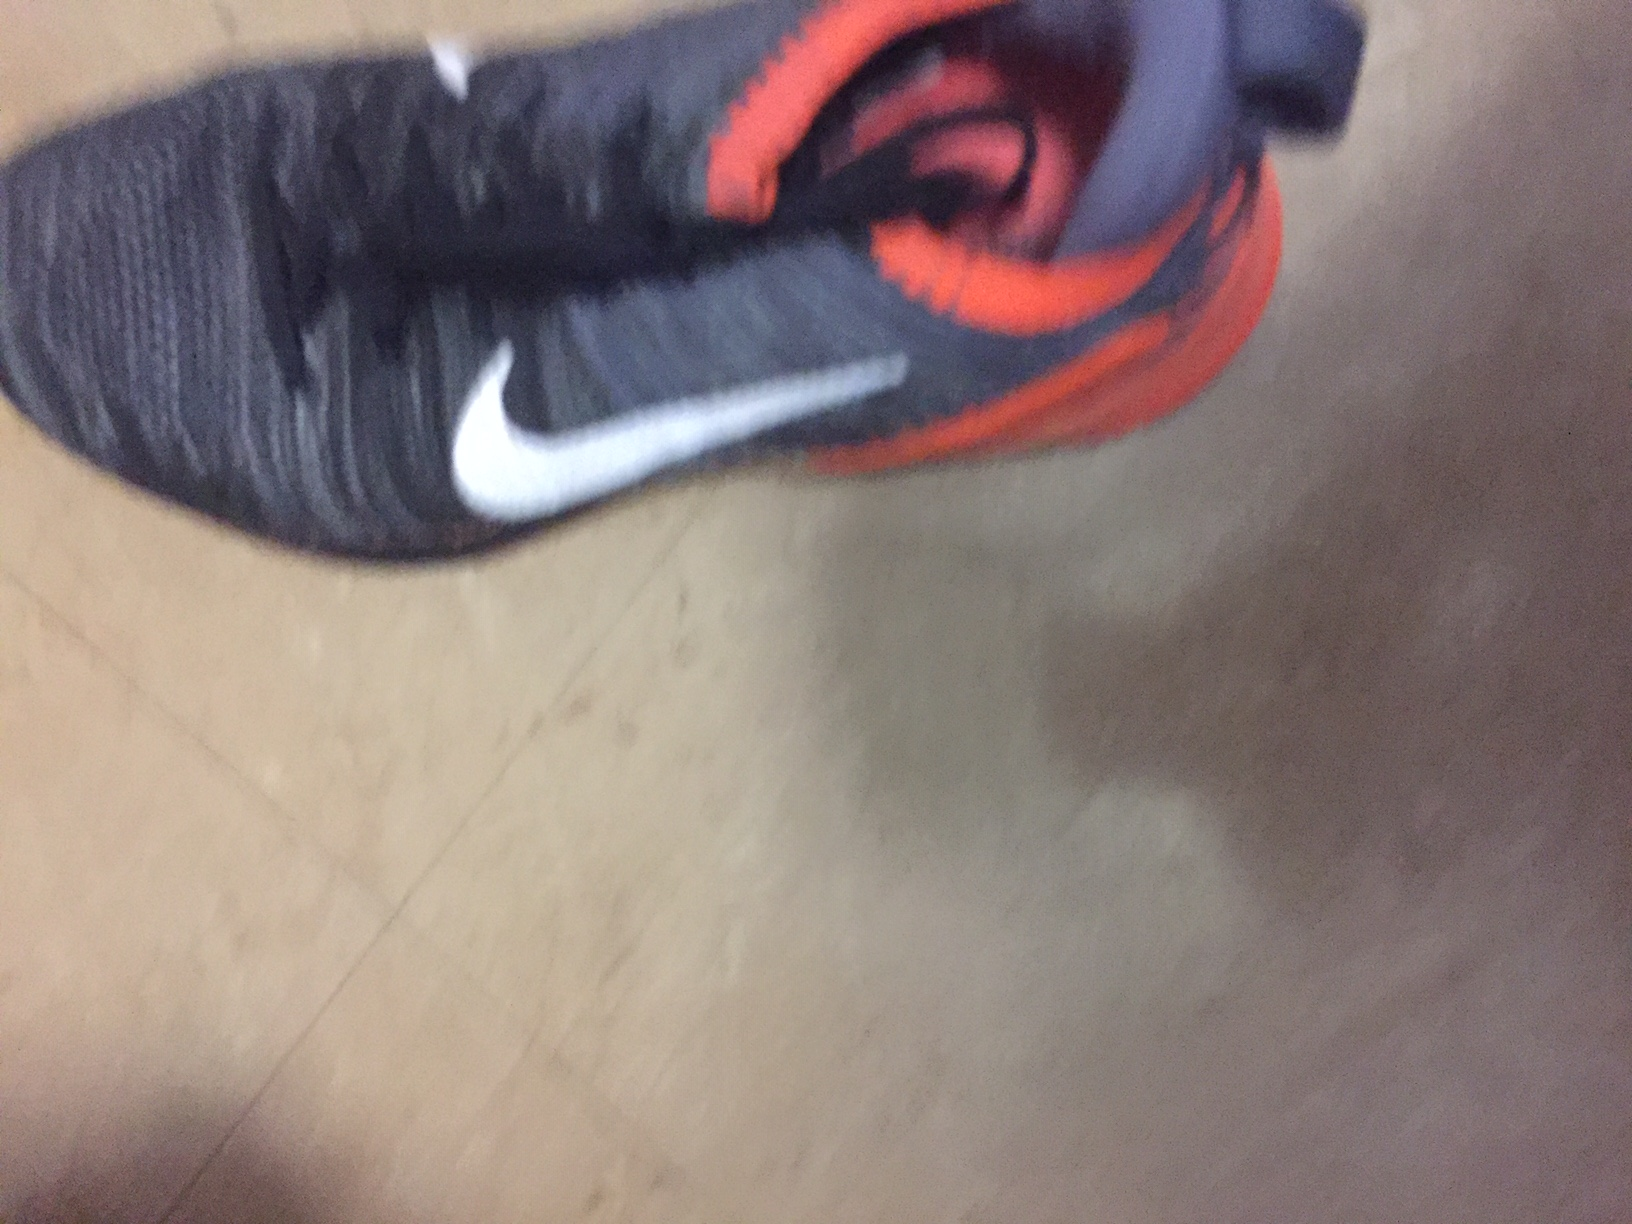car: (4, 4, 1374, 573)
